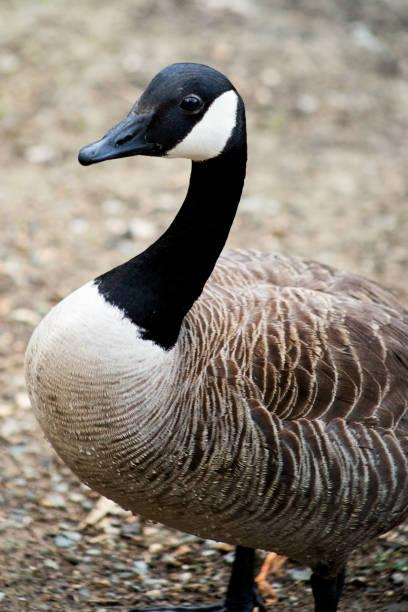Canadian-Goose: (28, 60, 408, 611)
